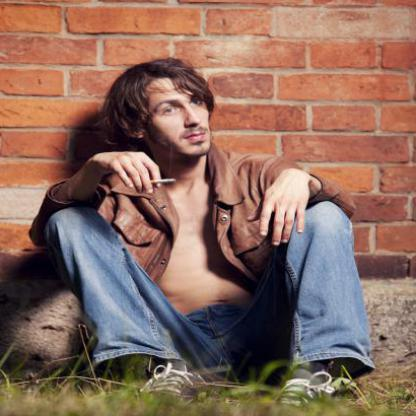cigarette: (147, 178, 180, 184)
person: (51, 57, 368, 410)
